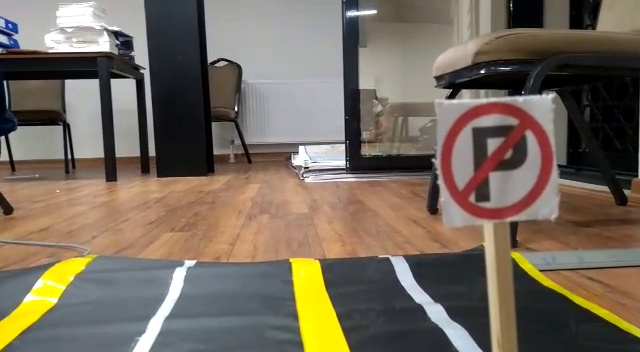park_yapilmaz: (432, 95, 561, 227)
